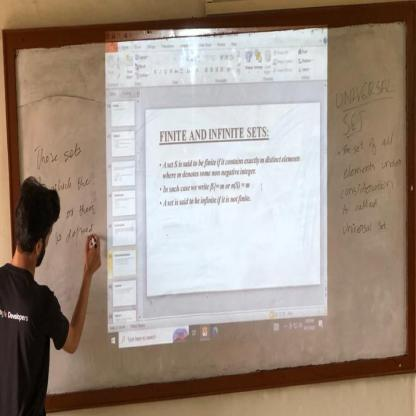Handwritten text: (330, 71, 400, 113), (331, 209, 395, 251), (338, 127, 403, 159), (34, 140, 85, 171), (336, 105, 375, 140)
Lecturer: (0, 174, 78, 416)
Whiteboard: (13, 14, 407, 400)
